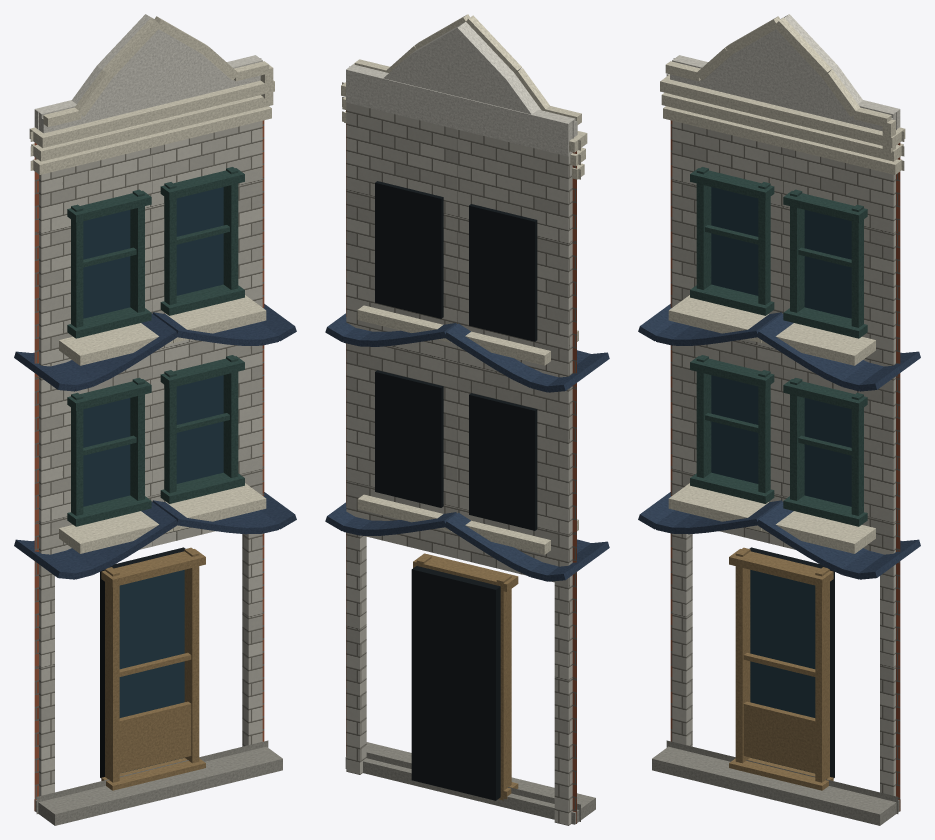
Rendered from CHINA16_lod2.glb.
3 views of the same model, side by side, from view 1: azimuth 30°, elevation 25°; view 2: azimuth 150°, elevation 25°; view 3: azimuth 330°, elevation 25° (orthographic).
Visible parts, largest first — view 1: CHINA16_FRONT_LOD2; view 2: CHINA16_FRONT_LOD2; view 3: CHINA16_FRONT_LOD2.
Part boxes in pixels (bbox=[...]): CHINA16_FRONT_LOD2: bbox=[14, 14, 296, 825]; CHINA16_FRONT_LOD2: bbox=[325, 14, 609, 825]; CHINA16_FRONT_LOD2: bbox=[638, 14, 920, 825].
Size of the model in its own units: 3.46 by 10.65 by 1.1.
Materials: 11 (9 with a texture image).
